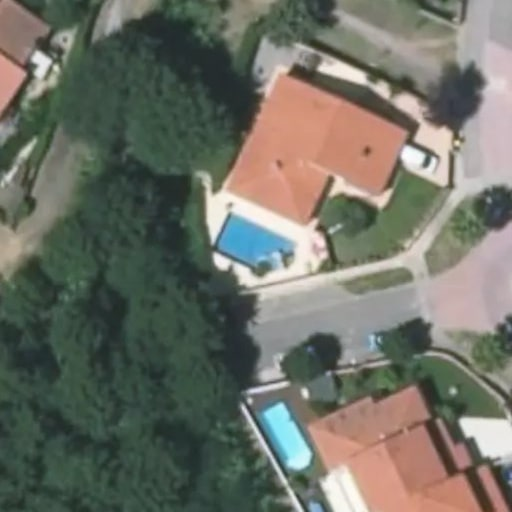pool: (206, 210, 299, 278), (252, 399, 318, 475)
